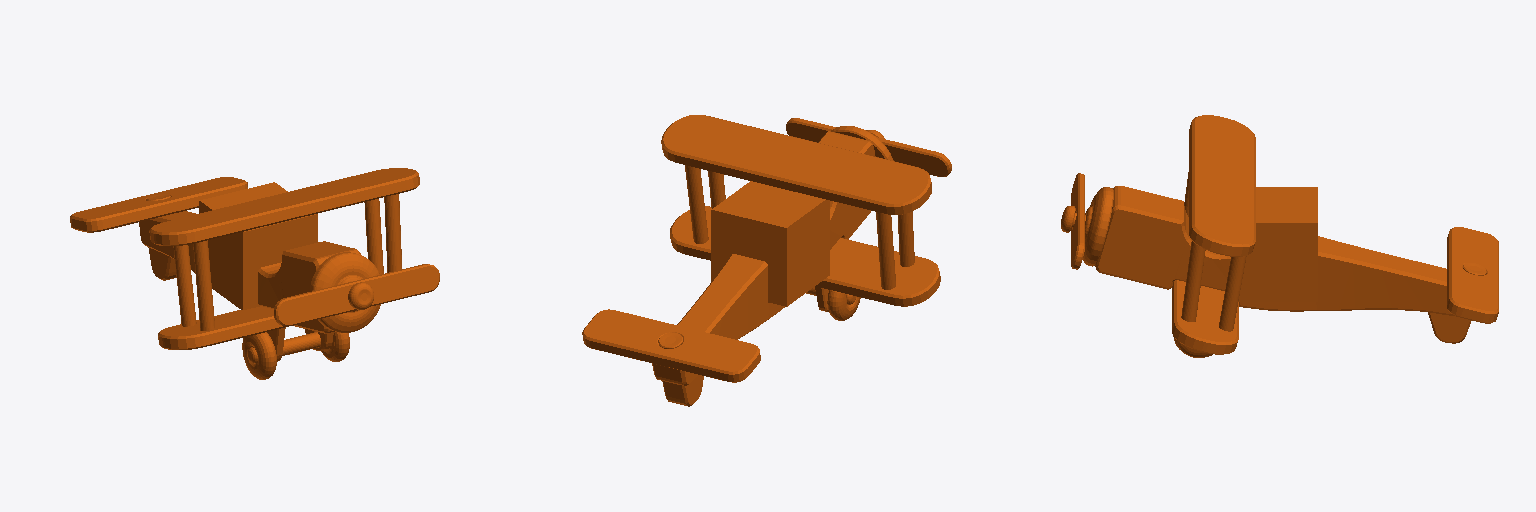
Rendered from planeUV.obj.
3 renders of one model, left to right at view 1: azimuth 30°, elevation 25°; view 2: azimuth 150°, elevation 25°; view 3: azimuth 270°, elevation 25°, orthographic.
Parts seen in each view (by area): view 1: basic_plane; view 2: basic_plane; view 3: basic_plane.
Boxes of the visible parts, x1=… form: basic_plane: x1=70, y1=168, x2=439, y2=379; basic_plane: x1=582, y1=115, x2=951, y2=406; basic_plane: x1=1061, y1=115, x2=1498, y2=357.
Size of the model in its own units: 6.88 by 4.23 by 10.08.